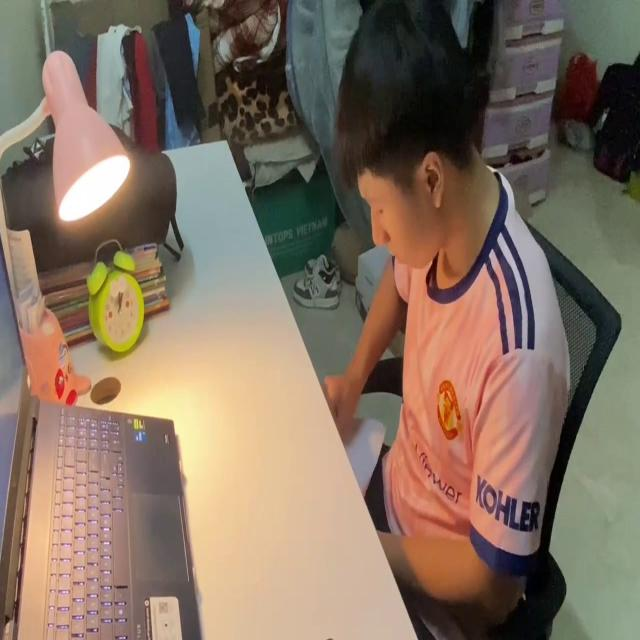book: (333, 412, 387, 488)
laptop: (0, 231, 204, 640)
student: (321, 0, 569, 640)
